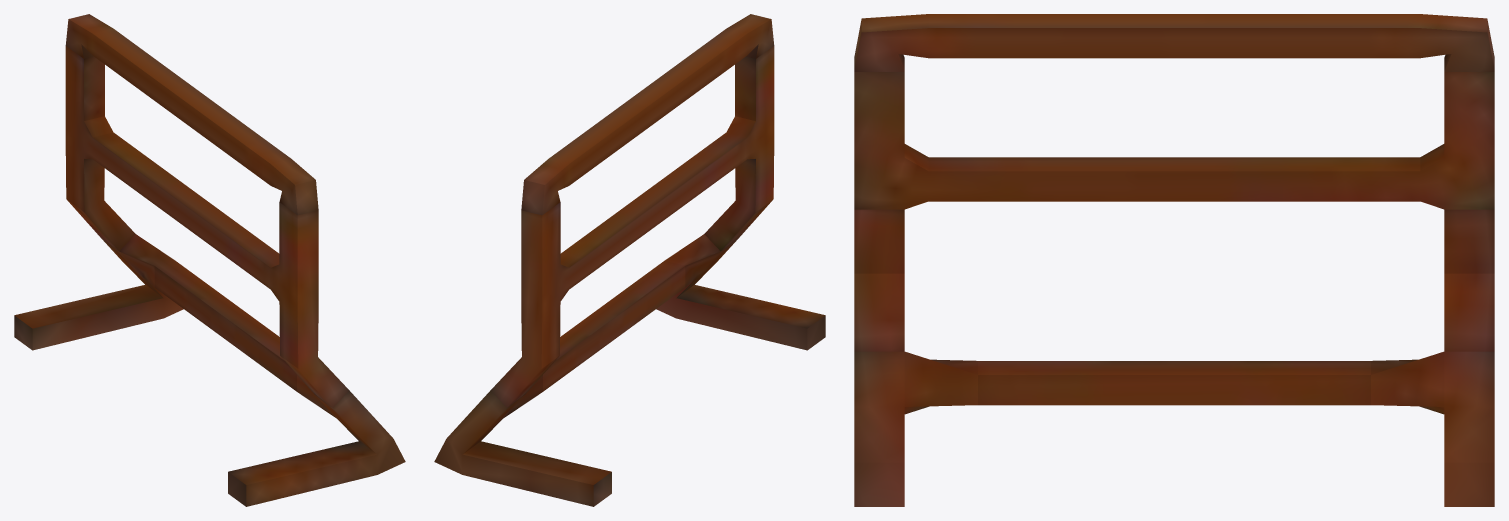
Rendered from free_medieval_rack.glb.
3 renders of one model, left to right at view 1: azimuth 30°, elevation 25°; view 2: azimuth 150°, elevation 25°; view 3: azimuth 270°, elevation 25°, orthographic. The views are drawn at different scales.
Visible parts, largest first — view 1: rack_blacksmith_0; view 2: rack_blacksmith_0; view 3: rack_blacksmith_0.
Boxes of the visible parts, <box> form: rack_blacksmith_0: <box>14,14,405,506</box>; rack_blacksmith_0: <box>434,14,825,506</box>; rack_blacksmith_0: <box>854,14,1494,506</box>.
Size of the model in its own units: 0.3112 by 0.5792 by 0.7841.
1 material, 1 textured.
